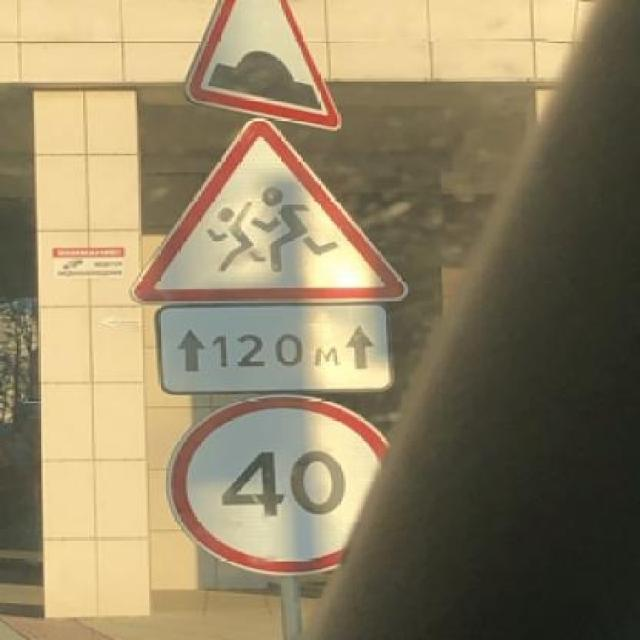forb_speed_over_40: (170, 396, 393, 582)
